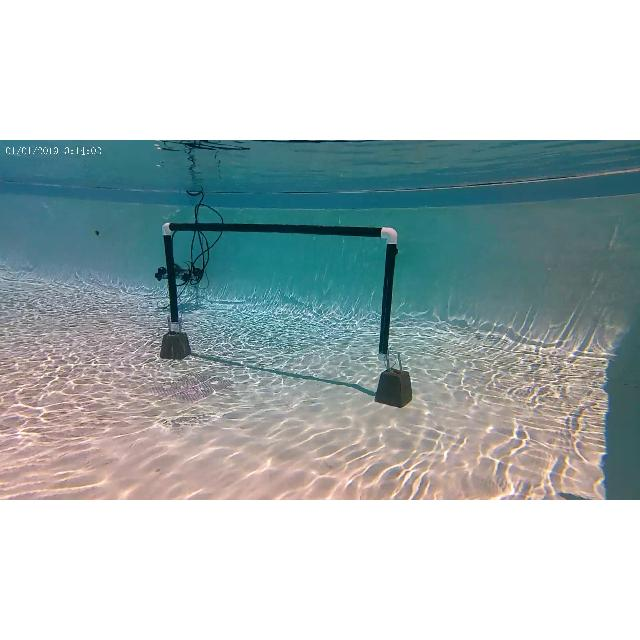prequal gate: (162, 222, 398, 360)
prequal gate leg l: (156, 220, 190, 348)
prequal gate leg r: (368, 220, 400, 362)
